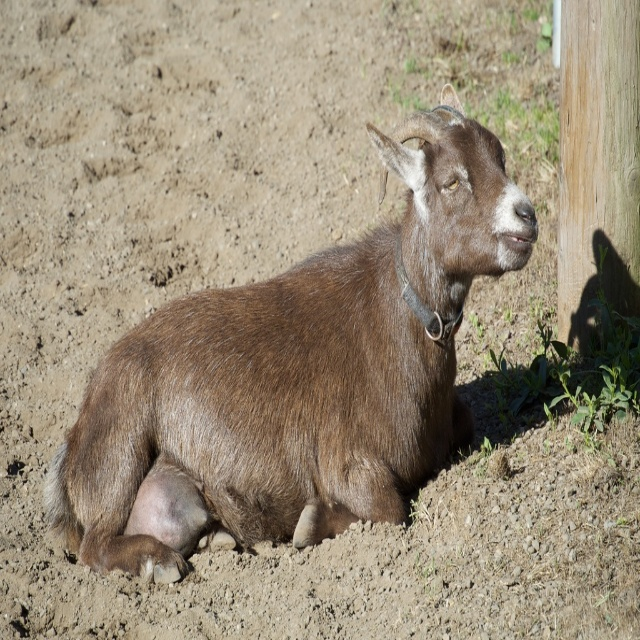Goat: (39, 84, 539, 587)
